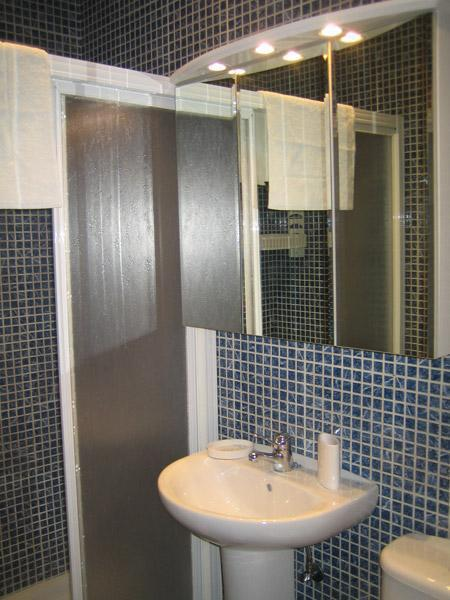Ducha: (11, 57, 215, 594)
Lavamanos: (132, 410, 376, 596)
